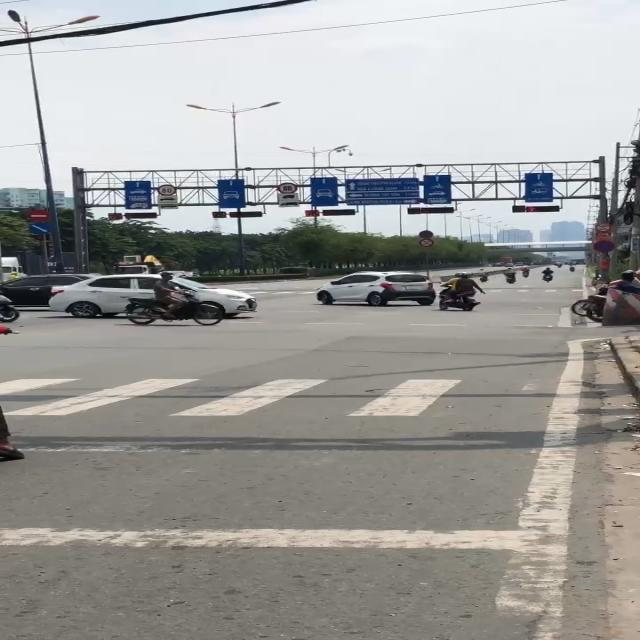Bien bao cam di nguoc chieu: (25, 209, 52, 222)
Bien bao huong phai di vong chuong ngai vat: (27, 221, 54, 235)
Bien bao toc do toi da cho phep: (156, 183, 178, 196), (276, 180, 298, 193)
